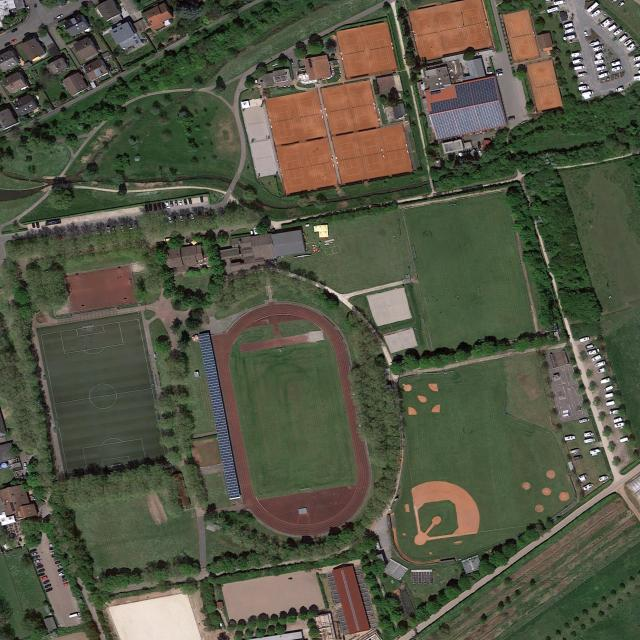large-vehicle: (68, 612, 80, 619)
small-vehicle: (590, 8, 603, 19), (600, 18, 612, 28), (622, 37, 634, 47), (563, 34, 577, 42), (597, 71, 611, 79), (617, 34, 628, 44), (582, 482, 594, 491), (590, 354, 603, 362), (547, 5, 560, 13), (588, 40, 601, 48), (625, 42, 636, 51), (571, 57, 583, 65), (603, 384, 615, 392), (577, 84, 590, 91), (594, 361, 606, 368), (599, 377, 611, 384), (613, 422, 627, 428), (598, 475, 610, 482), (612, 416, 624, 423), (611, 65, 623, 72), (562, 22, 574, 29), (563, 435, 576, 441), (582, 90, 593, 97), (579, 336, 590, 343), (596, 367, 607, 374), (584, 437, 595, 444), (593, 51, 604, 58), (564, 27, 575, 34), (617, 1, 626, 9), (578, 418, 590, 424), (589, 448, 601, 454), (604, 392, 616, 398), (579, 473, 589, 480), (571, 51, 581, 58), (577, 72, 588, 78), (587, 350, 598, 356), (583, 432, 594, 438), (606, 400, 617, 406), (593, 45, 604, 51), (596, 65, 607, 71), (54, 558, 63, 565), (585, 343, 595, 349), (609, 410, 621, 415), (569, 448, 580, 453), (574, 65, 585, 70), (594, 59, 605, 64), (178, 213, 184, 222), (57, 567, 66, 573), (58, 571, 67, 577), (573, 456, 583, 461), (42, 579, 50, 585), (44, 583, 52, 589), (56, 14, 64, 20), (10, 27, 18, 33), (46, 587, 54, 593), (62, 577, 70, 583), (106, 225, 111, 234), (29, 548, 38, 553), (37, 568, 46, 573), (62, 582, 71, 587), (615, 87, 624, 92), (187, 198, 193, 205), (4, 41, 11, 47), (289, 58, 295, 65), (57, 562, 64, 568), (144, 204, 149, 212), (153, 203, 158, 211), (128, 222, 133, 230), (36, 564, 44, 569), (10, 38, 18, 43), (49, 546, 57, 551), (61, 574, 69, 579), (495, 68, 503, 73), (508, 116, 516, 121), (50, 551, 59, 555), (31, 222, 36, 229), (161, 202, 166, 209), (120, 224, 125, 231), (32, 555, 39, 560), (24, 32, 31, 37), (165, 201, 170, 208), (53, 556, 60, 561), (584, 30, 589, 37), (163, 238, 171, 242), (149, 204, 153, 212), (157, 202, 161, 210), (96, 227, 100, 235), (134, 221, 138, 229), (168, 215, 172, 223), (31, 552, 39, 556), (40, 576, 48, 580), (477, 141, 481, 149), (39, 572, 45, 577), (197, 210, 202, 216), (50, 554, 60, 557), (183, 198, 187, 205), (200, 196, 204, 203), (112, 226, 116, 233), (190, 212, 194, 219), (23, 462, 27, 469), (36, 222, 40, 229), (34, 559, 40, 563), (34, 3, 38, 9), (174, 200, 178, 206), (496, 73, 504, 76), (48, 543, 55, 546), (187, 214, 190, 220), (170, 201, 173, 207), (180, 200, 182, 206)
